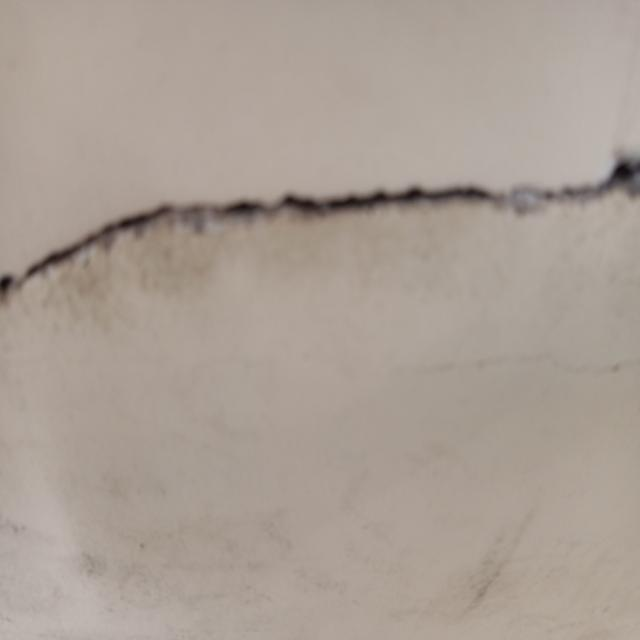horizontal crack: (0, 158, 640, 300)
